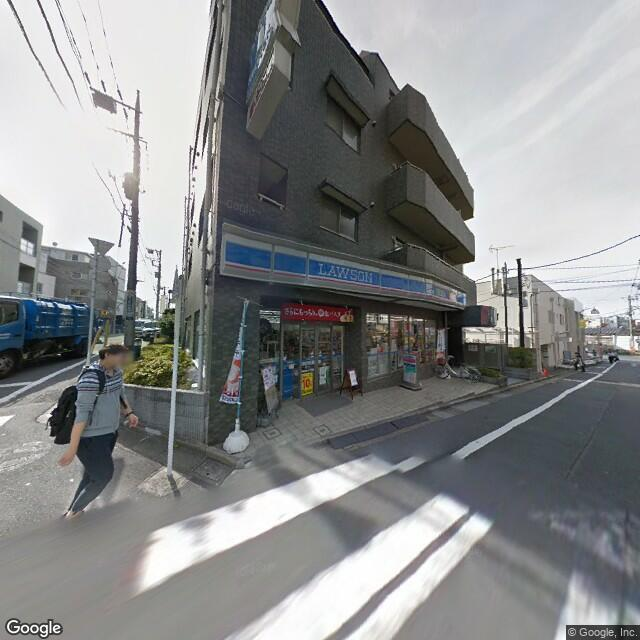lawson: (221, 228, 470, 310)
